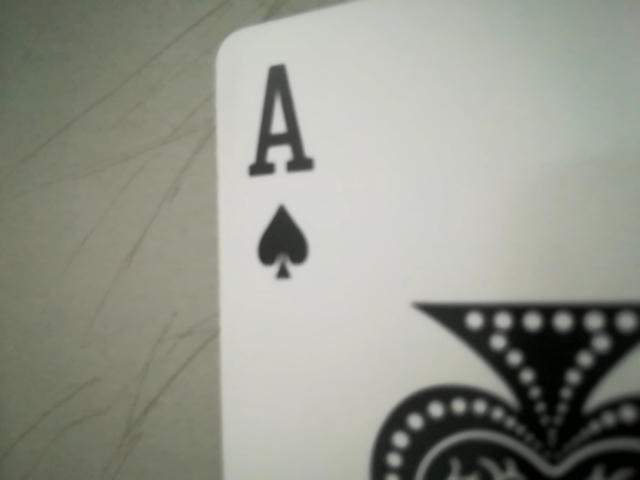ht a: (243, 56, 322, 283)
